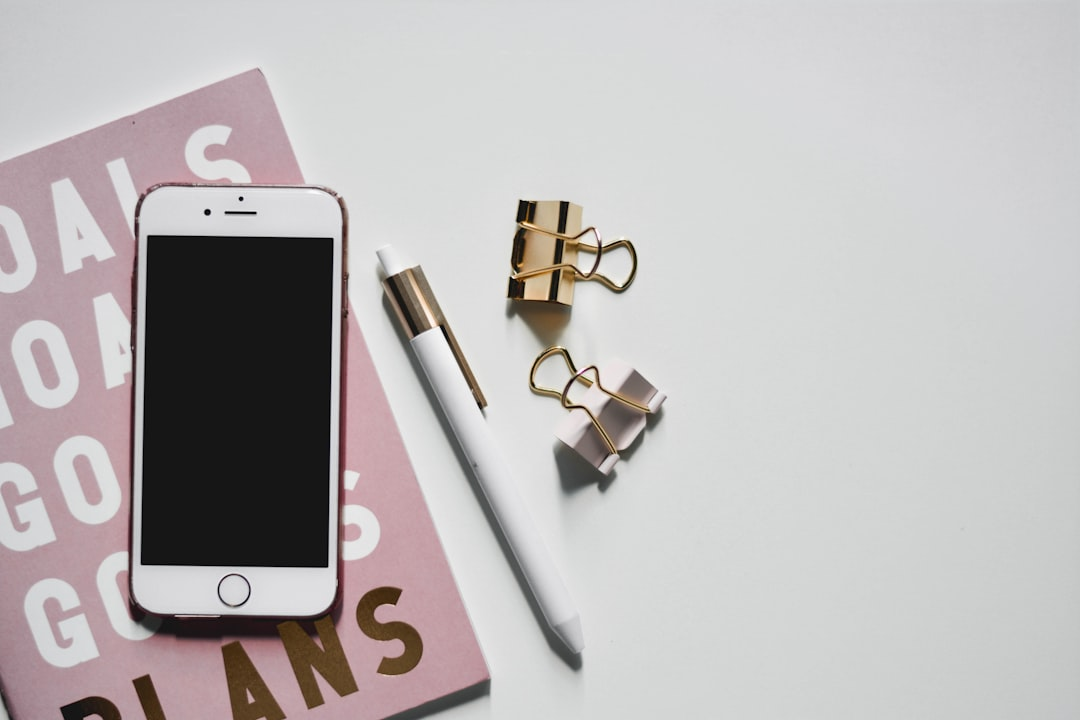phone: (129, 183, 347, 623)
